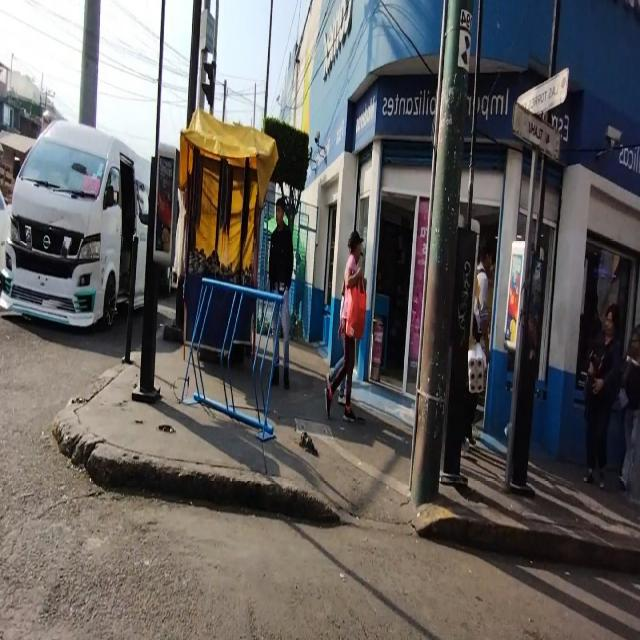adult: (324, 228, 367, 421), (584, 302, 622, 487), (466, 240, 496, 447), (269, 196, 294, 386), (620, 324, 640, 488)
